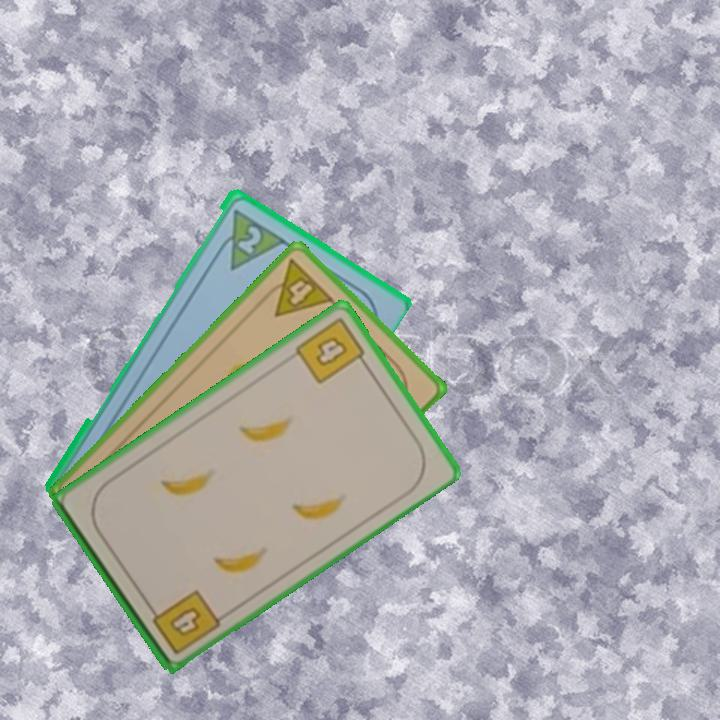2p: (233, 221, 264, 256)
4b: (291, 313, 372, 387), (144, 585, 223, 657)
4p: (256, 255, 337, 320)
